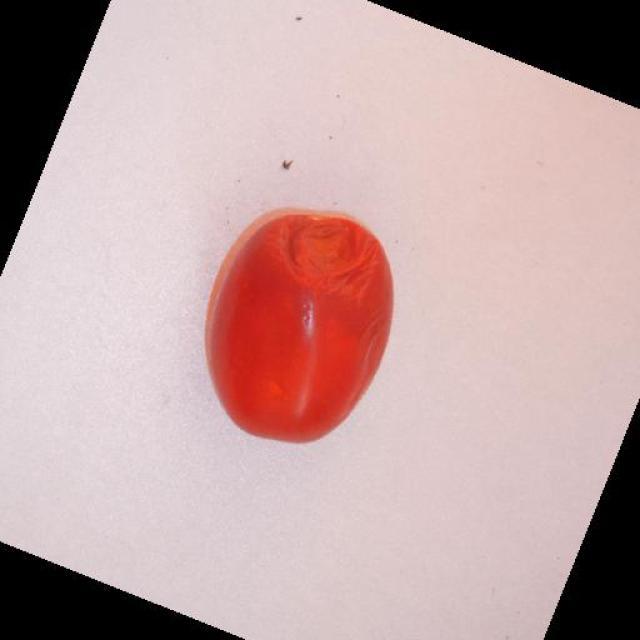Stale_tomato: (194, 182, 393, 450)
